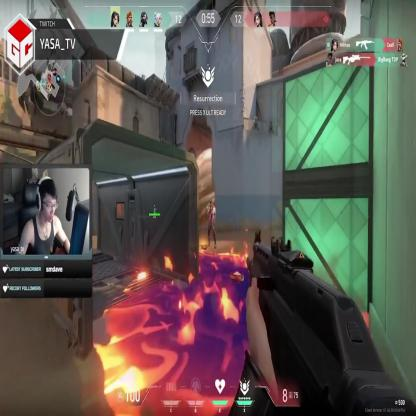enemy: (207, 200, 217, 251)
enemy_head: (209, 200, 212, 210)
